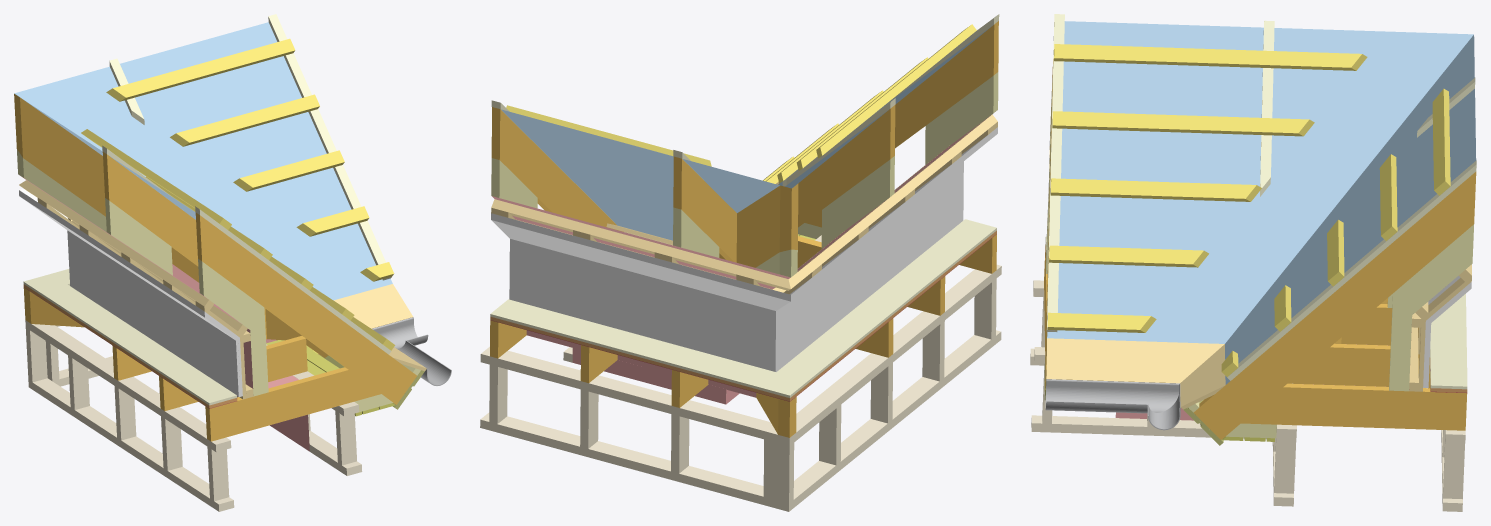
3 renders of one model, left to right at view 1: azimuth 30°, elevation 25°; view 2: azimuth 150°, elevation 25°; view 3: azimuth 270°, elevation 25°, orthographic. The views are drawn at different scales.
Parts seen in each view (by area): view 1: 1 Optegning, 035, 4 Mellemtyk kortstregslinje, 5 Ramme, A99--S-; view 2: 1 Optegning, 5 Ramme, 035, 4 Mellemtyk kortstregslinje, A99--S-; view 3: 035, 4 Mellemtyk kortstregslinje, 1 Optegning, 5 Ramme.
Boxes of the visible parts, bbox=[...] form: 1 Optegning: bbox=[14, 93, 416, 475]; 035: bbox=[14, 22, 392, 300]; 4 Mellemtyk kortstregslinje: bbox=[81, 14, 451, 416]; 5 Ramme: bbox=[25, 320, 358, 511]; A99--S-: bbox=[22, 177, 318, 451]; 1 Optegning: bbox=[490, 21, 998, 437]; 5 Ramme: bbox=[480, 235, 1001, 511]; 035: bbox=[501, 27, 990, 240]; 4 Mellemtyk kortstregslinje: bbox=[491, 14, 999, 245]; A99--S-: bbox=[492, 115, 990, 404]; 035: bbox=[1047, 21, 1476, 384]; 4 Mellemtyk kortstregslinje: bbox=[1044, 14, 1476, 445]; 1 Optegning: bbox=[1031, 59, 1476, 439]; 5 Ramme: bbox=[1030, 280, 1465, 511].
Size of the model in its own units: 106 by 112 by 128.
